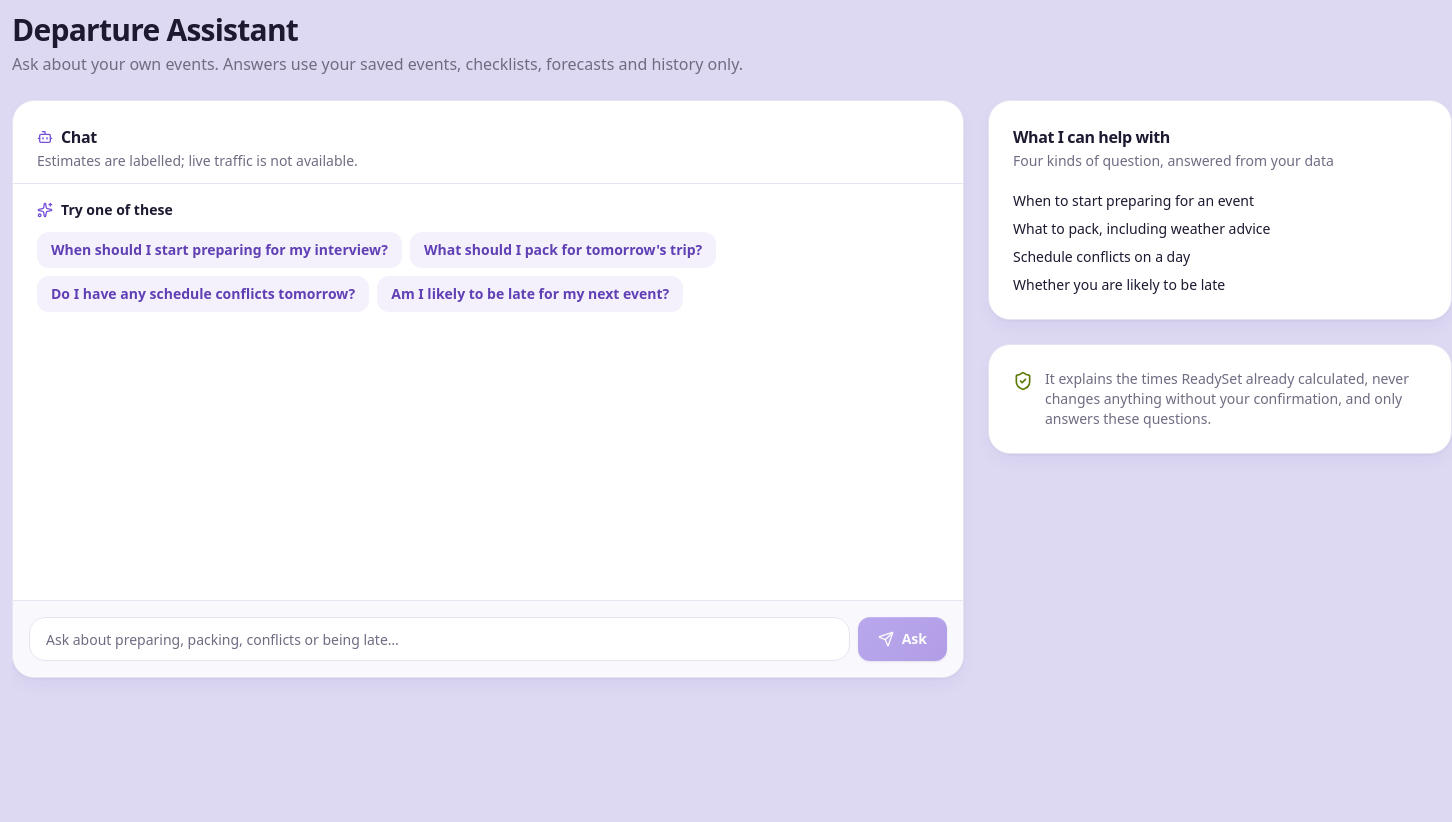
Scenario: assistant page › labels a rules-based answer, shows the reason and the uncertainty
This screenshot has width=1452, height=822.
Step 1. Type "When should I start preparing for my interview?" into the field named "Your question" → [439, 639], box 29,617 -> 850,661
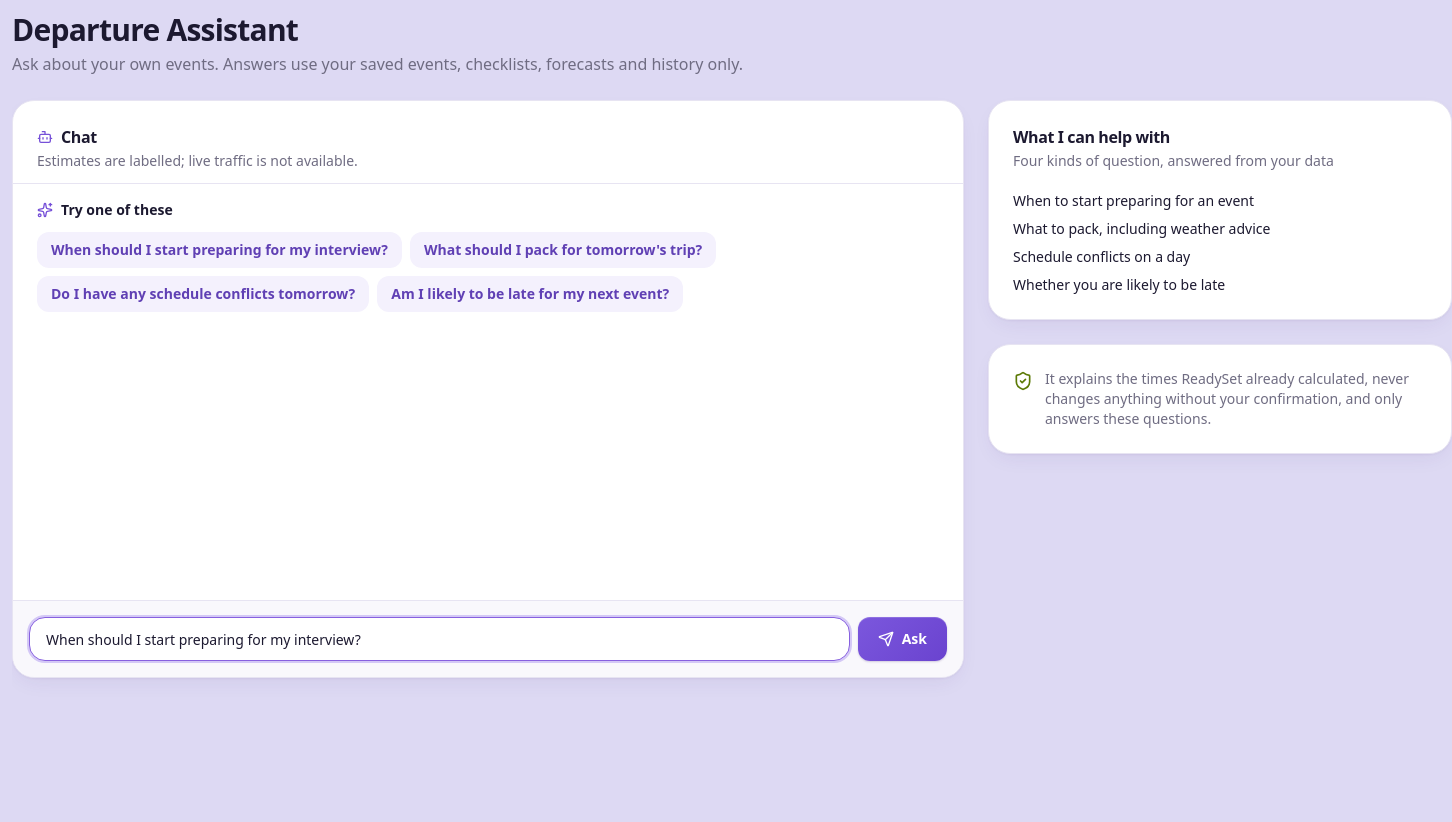
Step 2. Click the button "Ask" → [902, 639], box 858,617 -> 947,661
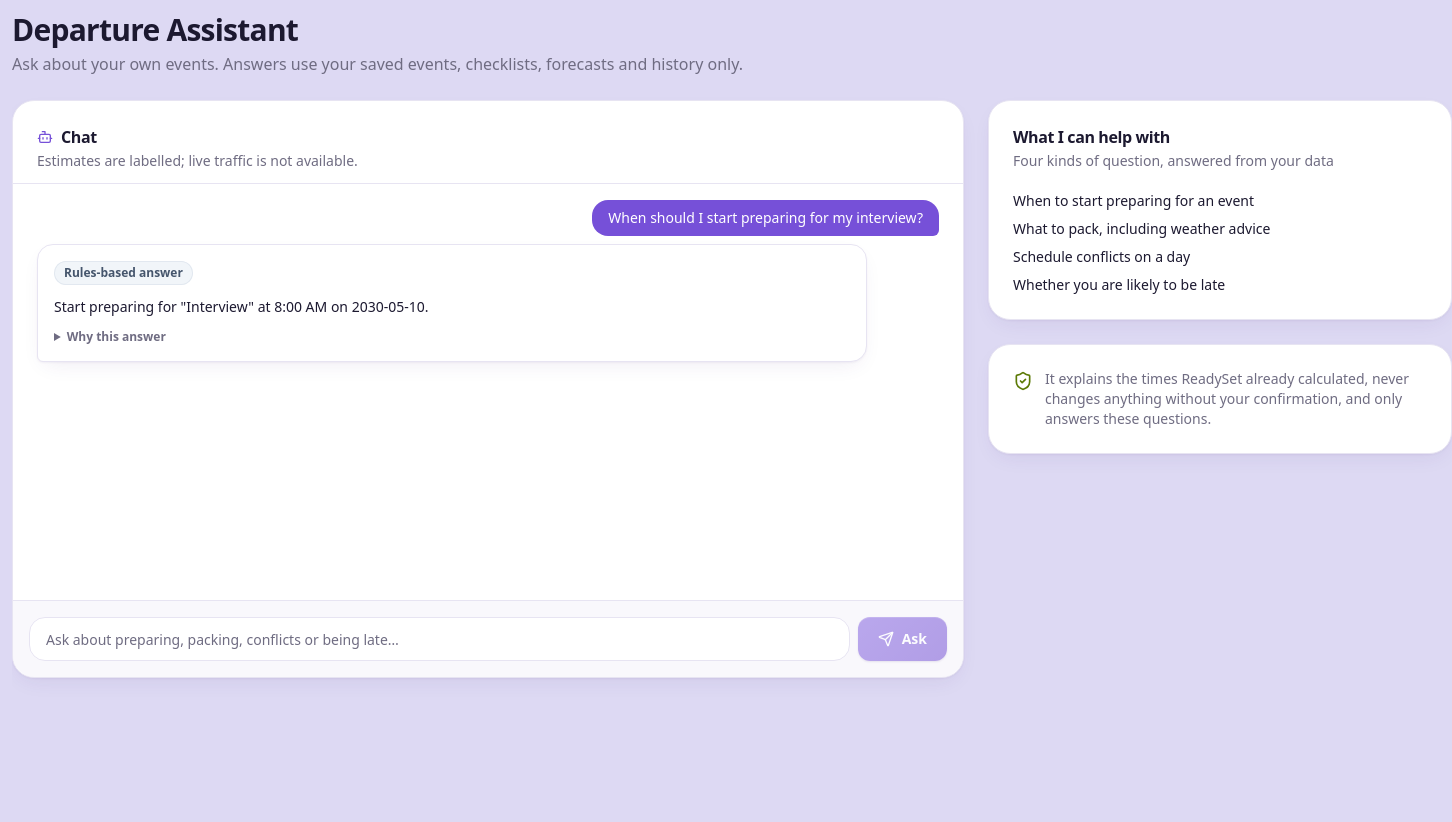
Expected: the text "Start preparing for \"Interview\" at 8:00 AM on 2030-05-10." is shown, 54,297 -> 428,316
Expected: the text "Rules-based answer" is shown, 54,261 -> 193,285
